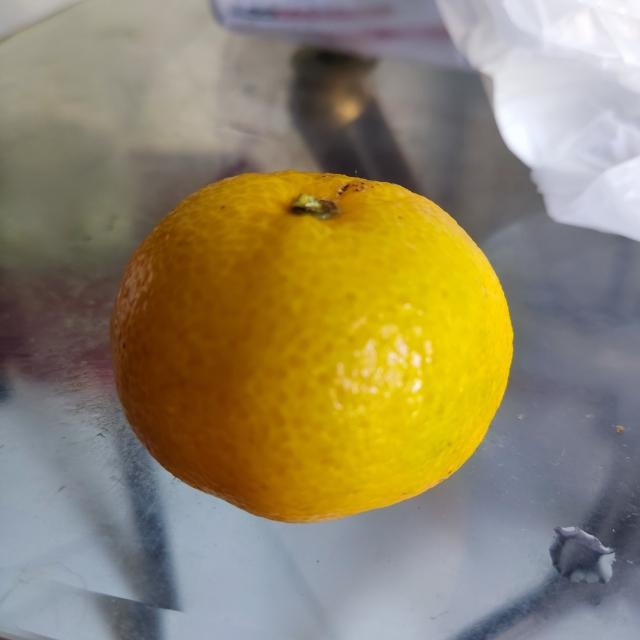agrume: (104, 168, 512, 523)
